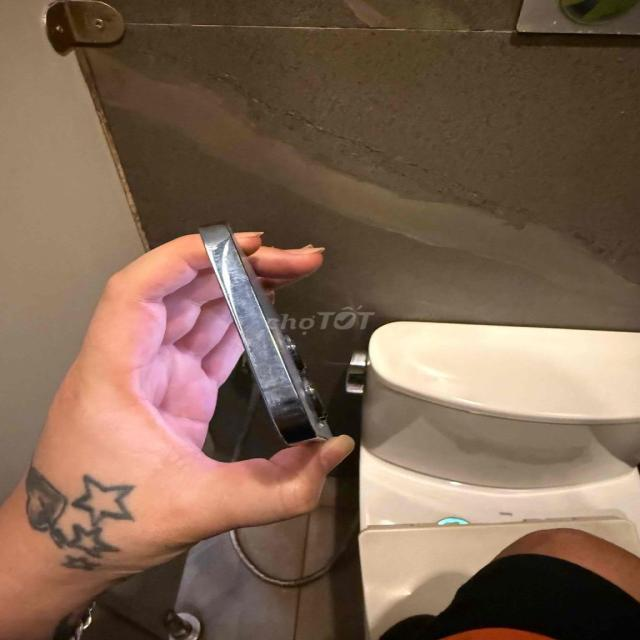gen_12_13: (193, 213, 371, 493)
scratch: (207, 238, 310, 421)
